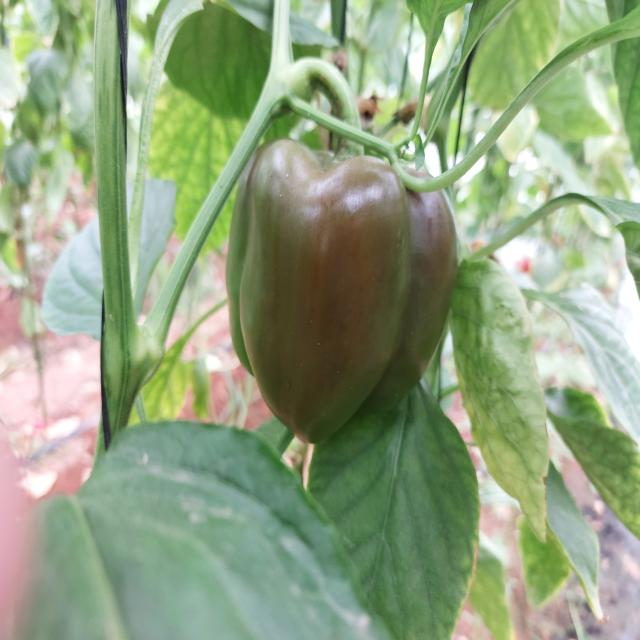BrownishRed--Can-be-Harvested: (248, 146, 459, 446)
